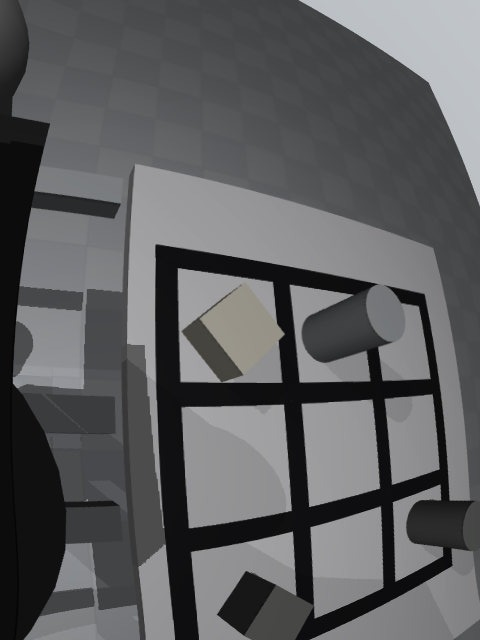can: (302, 284, 405, 363)
cube: (217, 571, 314, 640)
cylinder: (406, 500, 480, 552)
foam: (181, 283, 285, 382)
